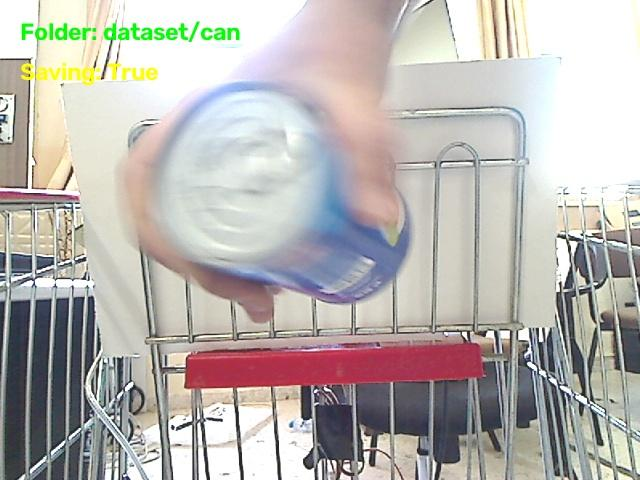can: (155, 83, 409, 302)
